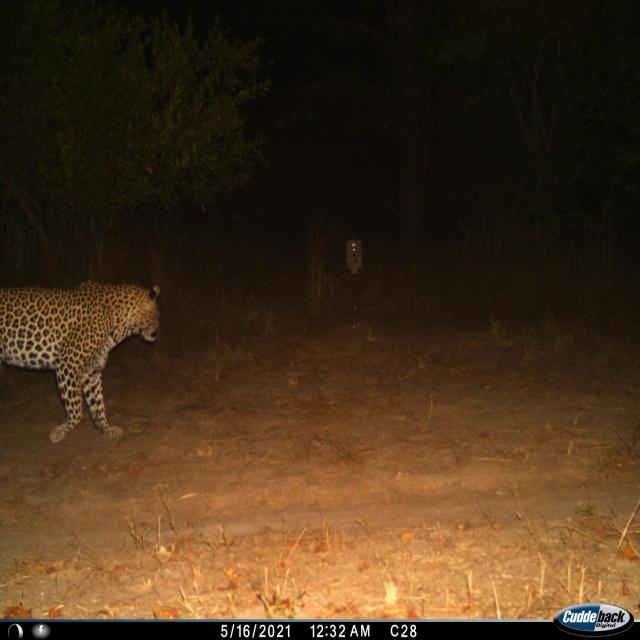Leopard: (0, 269, 176, 457)
